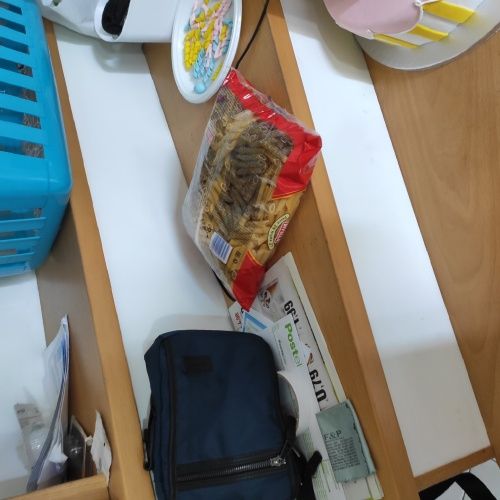pasta: (184, 89, 306, 290)
